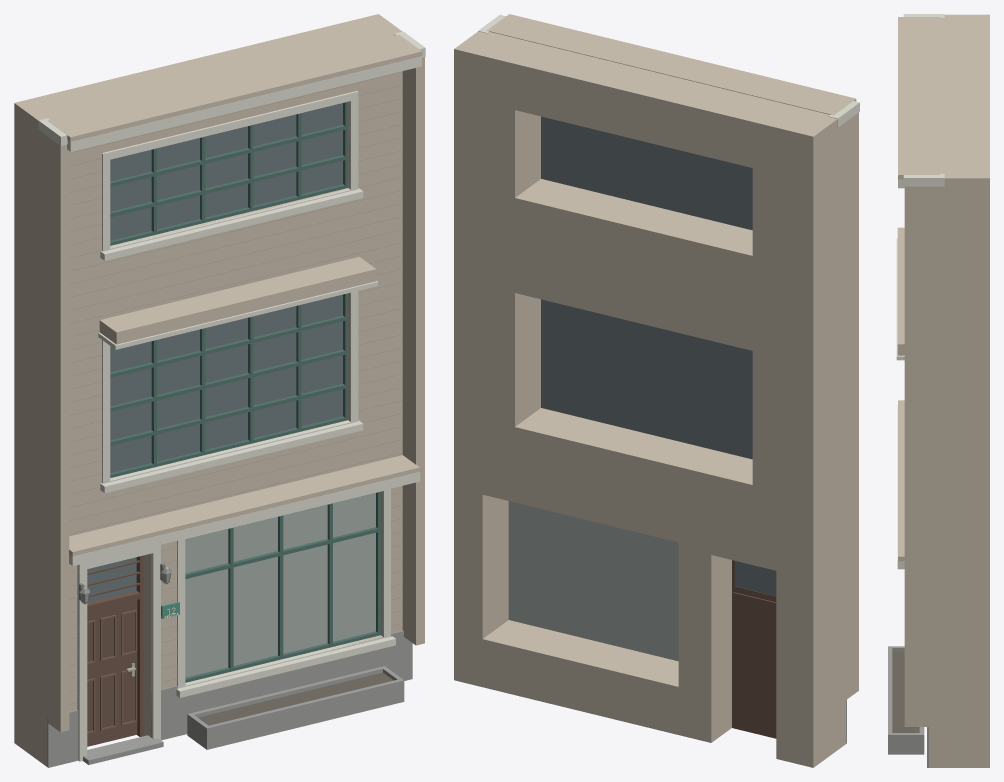
The model's file is jingan-jinghua-village-no12-web.glb.
3 views of the same model, side by side, from view 1: azimuth 30°, elevation 25°; view 2: azimuth 150°, elevation 25°; view 3: azimuth 270°, elevation 25° (orthographic). The views are drawn at different scales.
Visible parts, largest first — view 1: 景华新邨12号弄内门面; view 2: 景华新邨12号弄内门面; view 3: 景华新邨12号弄内门面.
Boxes of the visible parts, <box> form: 景华新邨12号弄内门面: <box>14,14,425,767</box>; 景华新邨12号弄内门面: <box>454,14,859,767</box>; 景华新邨12号弄内门面: <box>888,14,989,767</box>.
Bounding box in the file's own units: 5.79 × 9.71 × 1.52.
